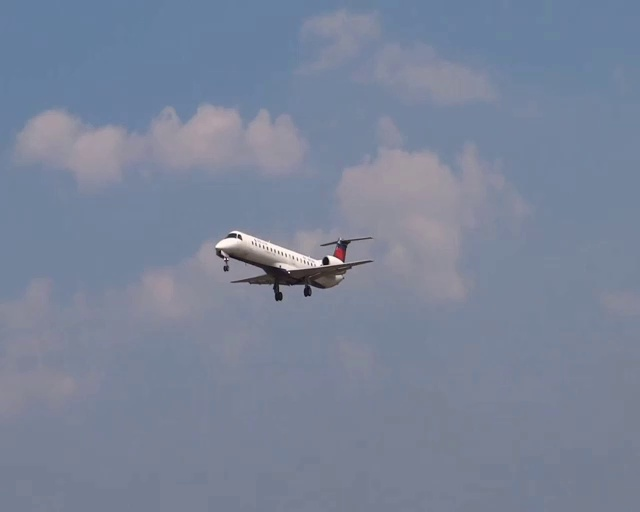AIRPLANE: (215, 231, 374, 300)
